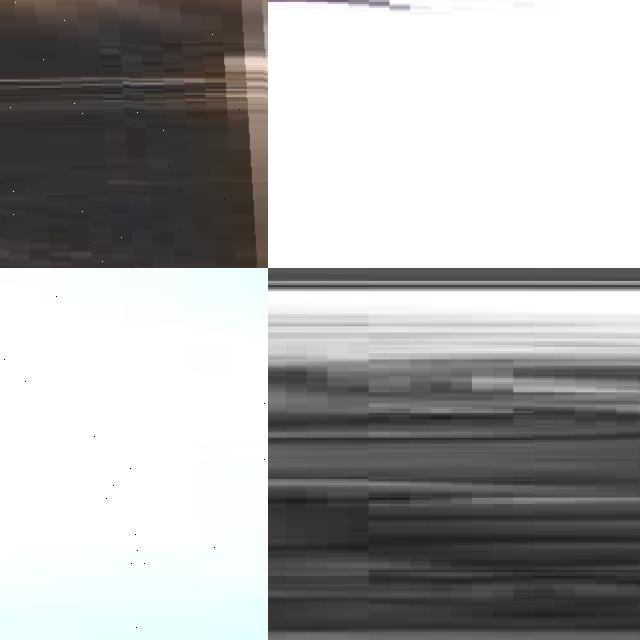street light: (0, 268, 268, 640), (0, 0, 268, 268)
